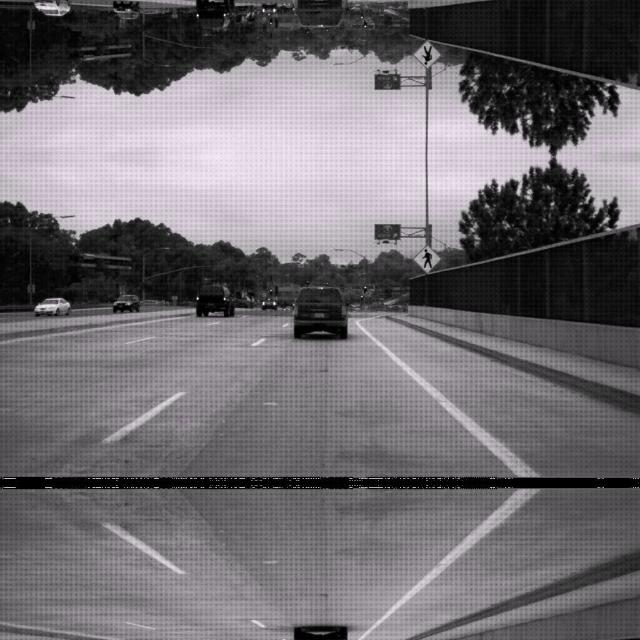pedestrianCrossing: (412, 242, 440, 272), (412, 40, 440, 70)
